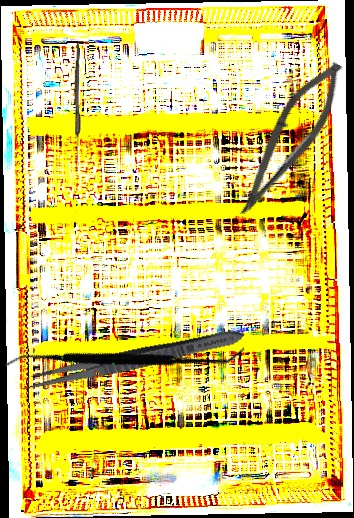Dressing Forceps: (18, 322, 249, 398)
Micro Scissor: (228, 51, 354, 229)
Spatula Surgical: (2, 250, 247, 465)
Surgical Spoon: (73, 44, 82, 166)
